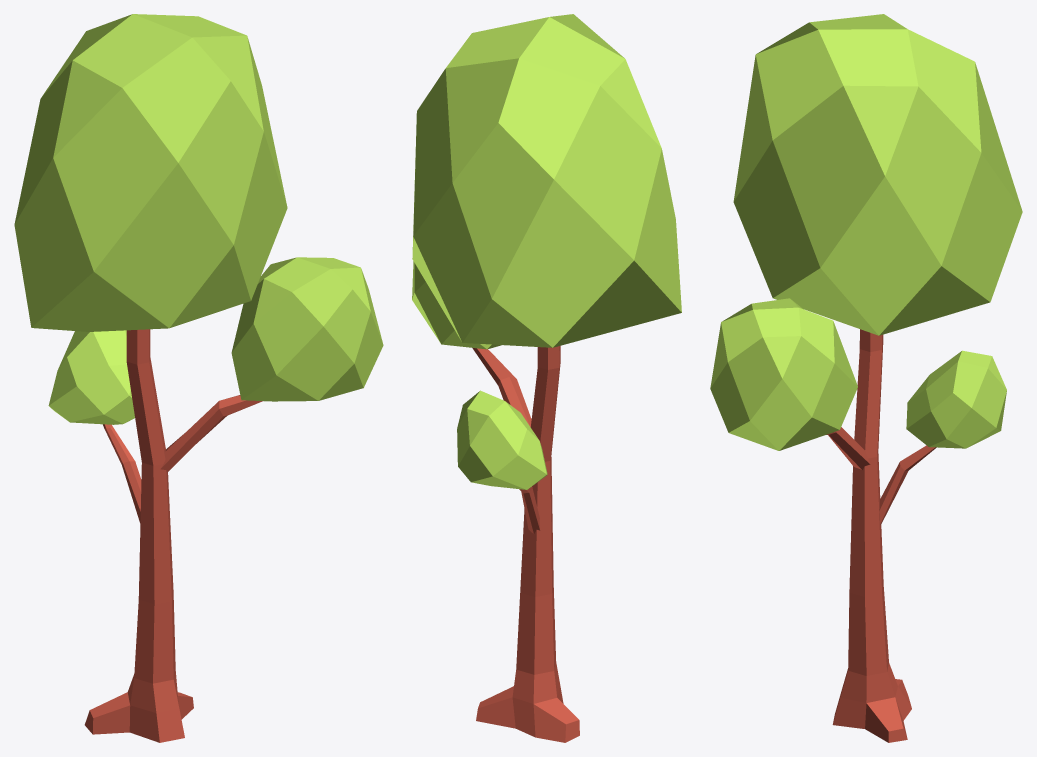
File: tree_1.fbx
The picture shows the model from 3 angles, left to right: view 1: azimuth 30°, elevation 25°; view 2: azimuth 150°, elevation 25°; view 3: azimuth 270°, elevation 25°; orthographic projection. The views are drawn at different scales.
Visible parts, largest first — view 1: tree_1; view 2: tree_1; view 3: tree_1.
Boxes of the visible parts, x1,y1,x2,y2 form: tree_1: (14, 14, 383, 742); tree_1: (412, 14, 681, 742); tree_1: (710, 14, 1022, 742).
Bounding box in the file's own units: 1.9 × 4.1 × 1.67.
